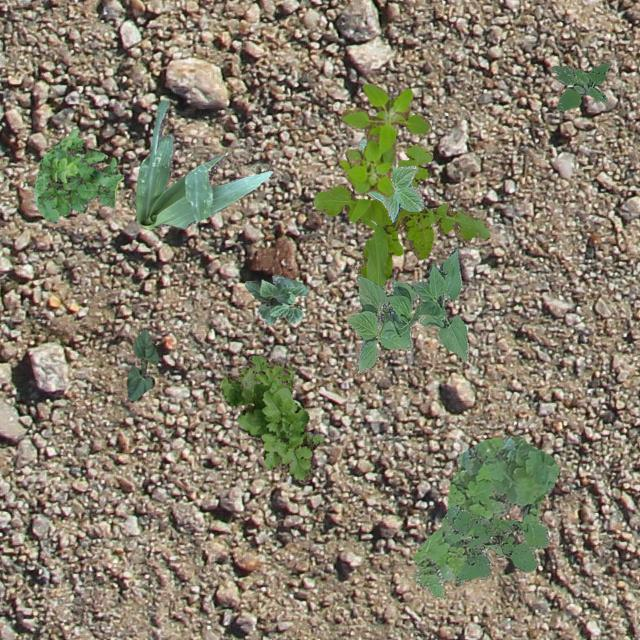crop: (134, 99, 272, 228), (346, 246, 468, 372), (358, 137, 422, 220), (244, 274, 308, 324), (126, 328, 158, 402)
weed: (312, 142, 490, 286), (410, 434, 558, 596), (220, 354, 322, 480), (338, 82, 430, 198), (444, 504, 548, 586), (32, 128, 122, 222), (548, 61, 610, 110)
